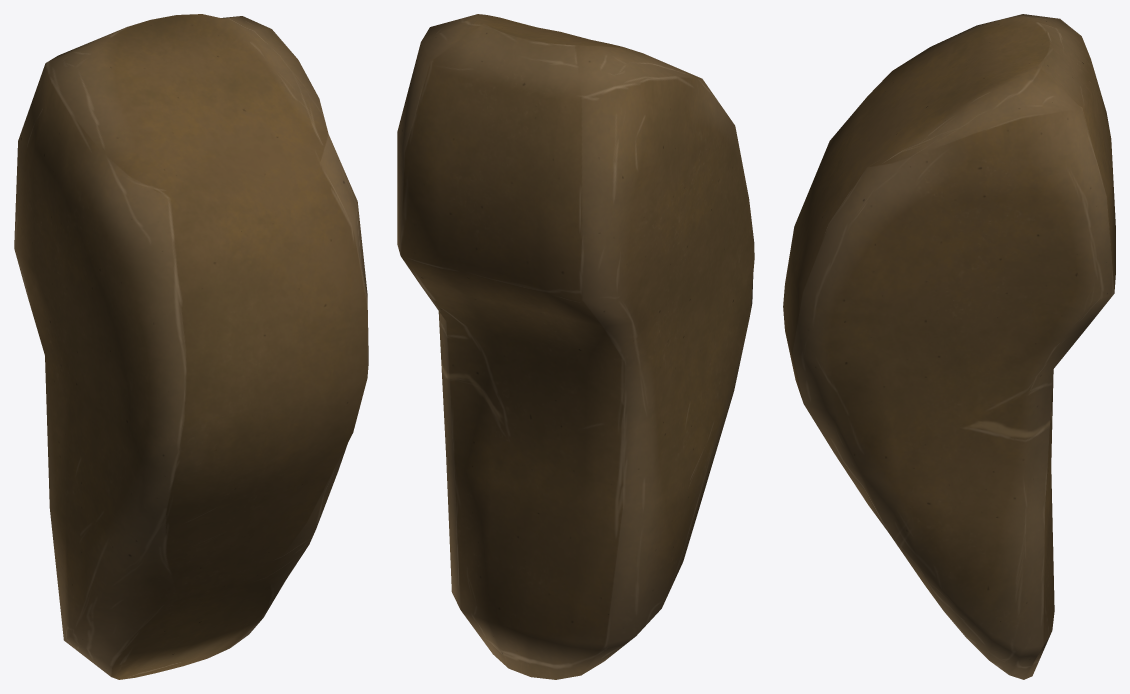
Rendered from Rock 3.FBX.
3 renders of one model, left to right at view 1: azimuth 30°, elevation 25°; view 2: azimuth 150°, elevation 25°; view 3: azimuth 270°, elevation 25°, orthographic. The views are drawn at different scales.
Parts seen in each view (by area): view 1: Rock 3; view 2: Rock 3; view 3: Rock 3.
Boxes of the visible parts, bbox=[...] form: Rock 3: bbox=[14, 14, 368, 679]; Rock 3: bbox=[397, 14, 754, 679]; Rock 3: bbox=[783, 14, 1115, 679].
Size of the model in its own units: 7.43 by 19.2 by 9.29.
1 material, 1 textured.
